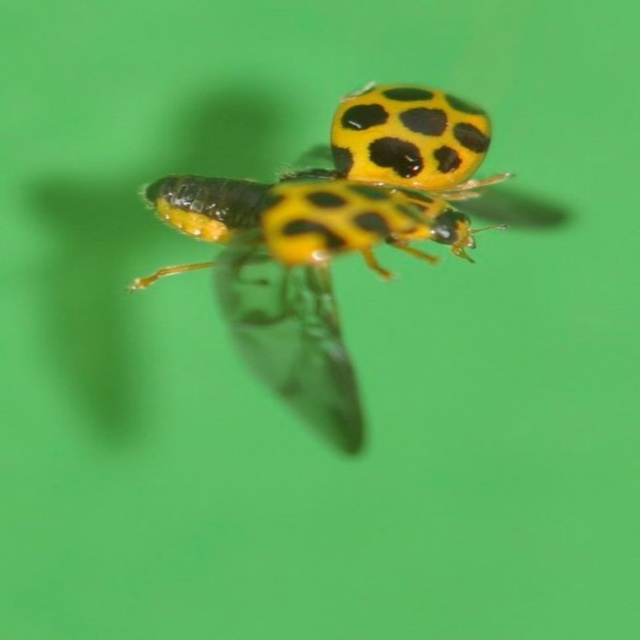Ladybug: (121, 76, 525, 300)
